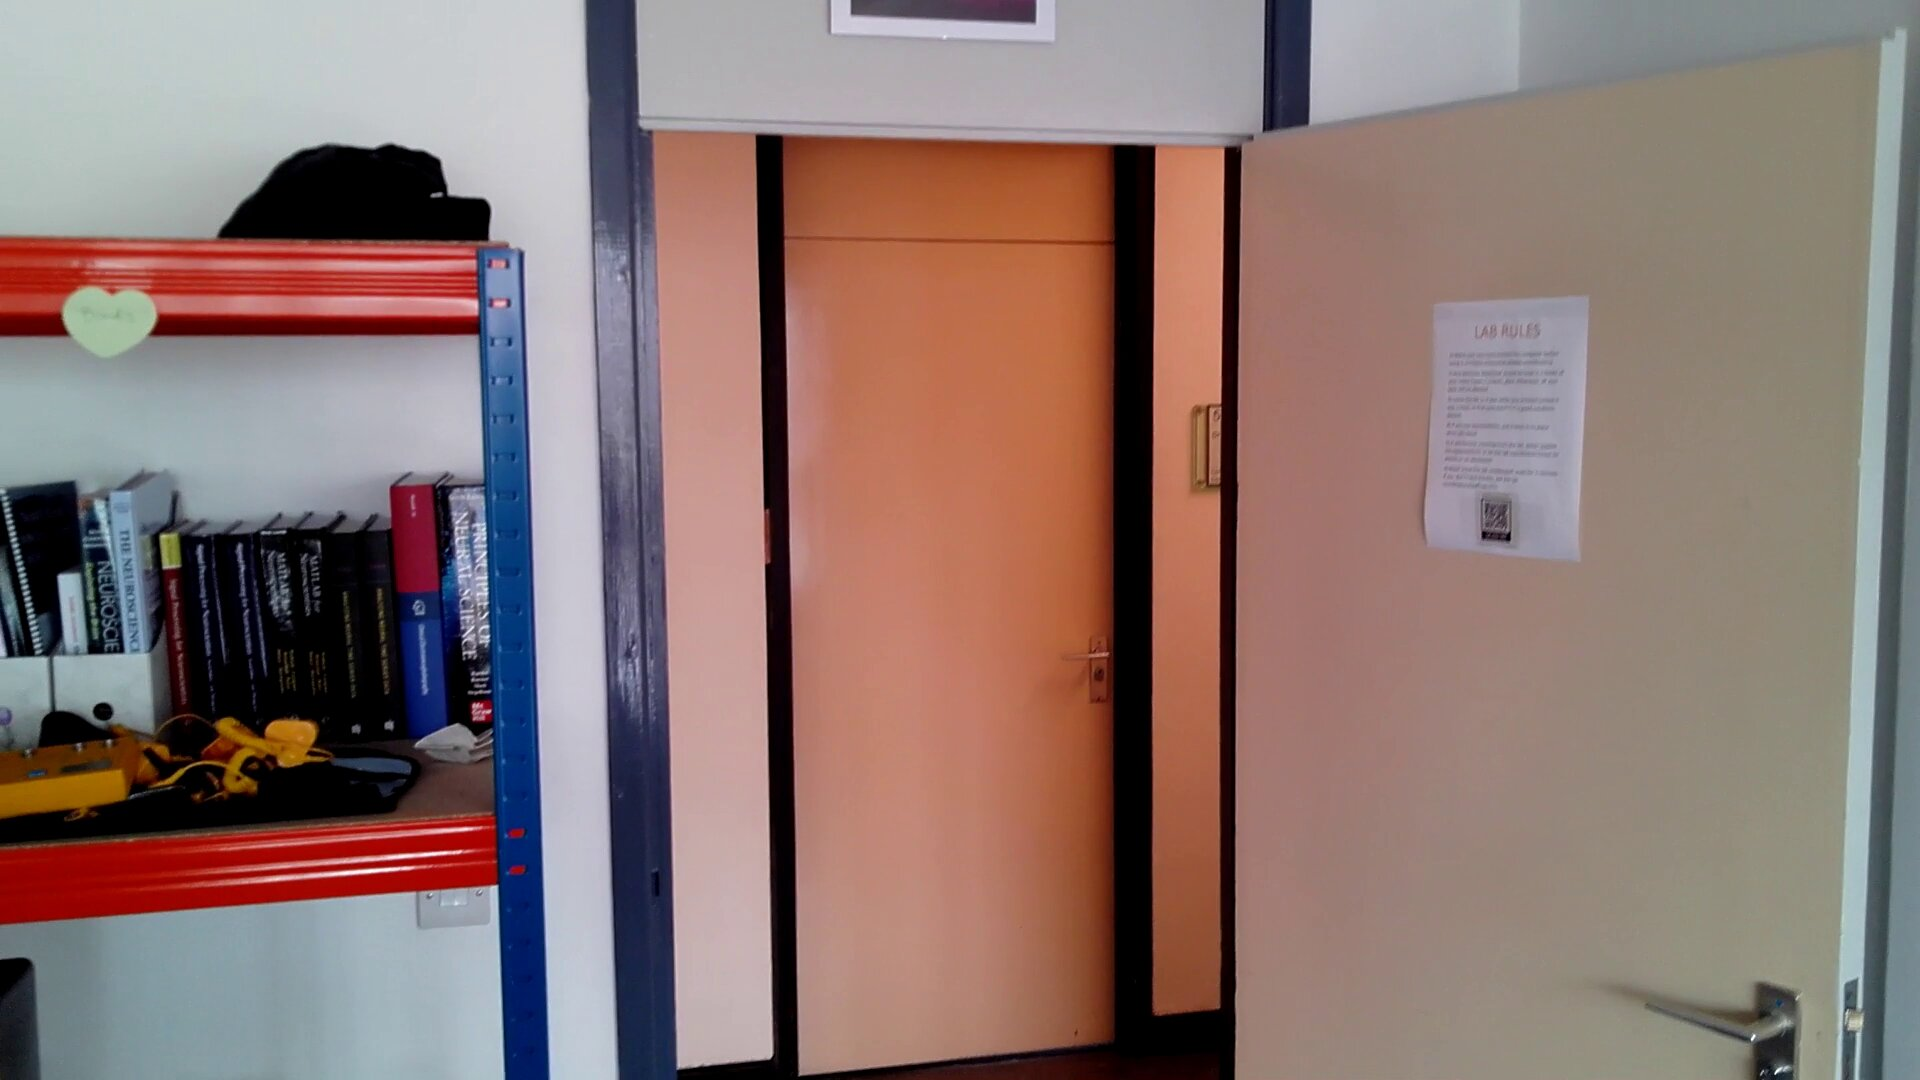Door: (1228, 117, 1902, 1080), (749, 225, 1180, 1079)
